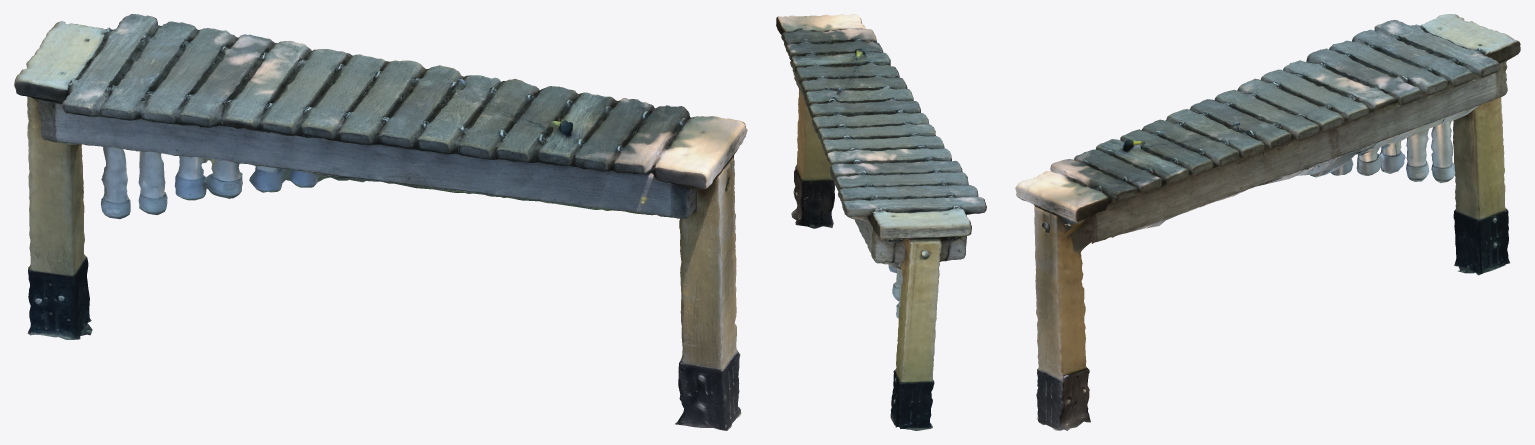
The model's file is marimba.glb.
3 renders of one model, left to right at view 1: azimuth 30°, elevation 25°; view 2: azimuth 150°, elevation 25°; view 3: azimuth 270°, elevation 25°, orthographic. The views are drawn at different scales.
Parts seen in each view (by area): view 1: Object_2; view 2: Object_2; view 3: Object_2.
Boxes of the visible parts, x1=… form: Object_2: x1=14, y1=14, x2=747, y2=430; Object_2: x1=776, y1=14, x2=986, y2=430; Object_2: x1=1015, y1=14, x2=1520, y2=430.
Size of the model in its own units: 5.5 by 3.11 by 5.87.
Materials: 1 (1 with a texture image).
